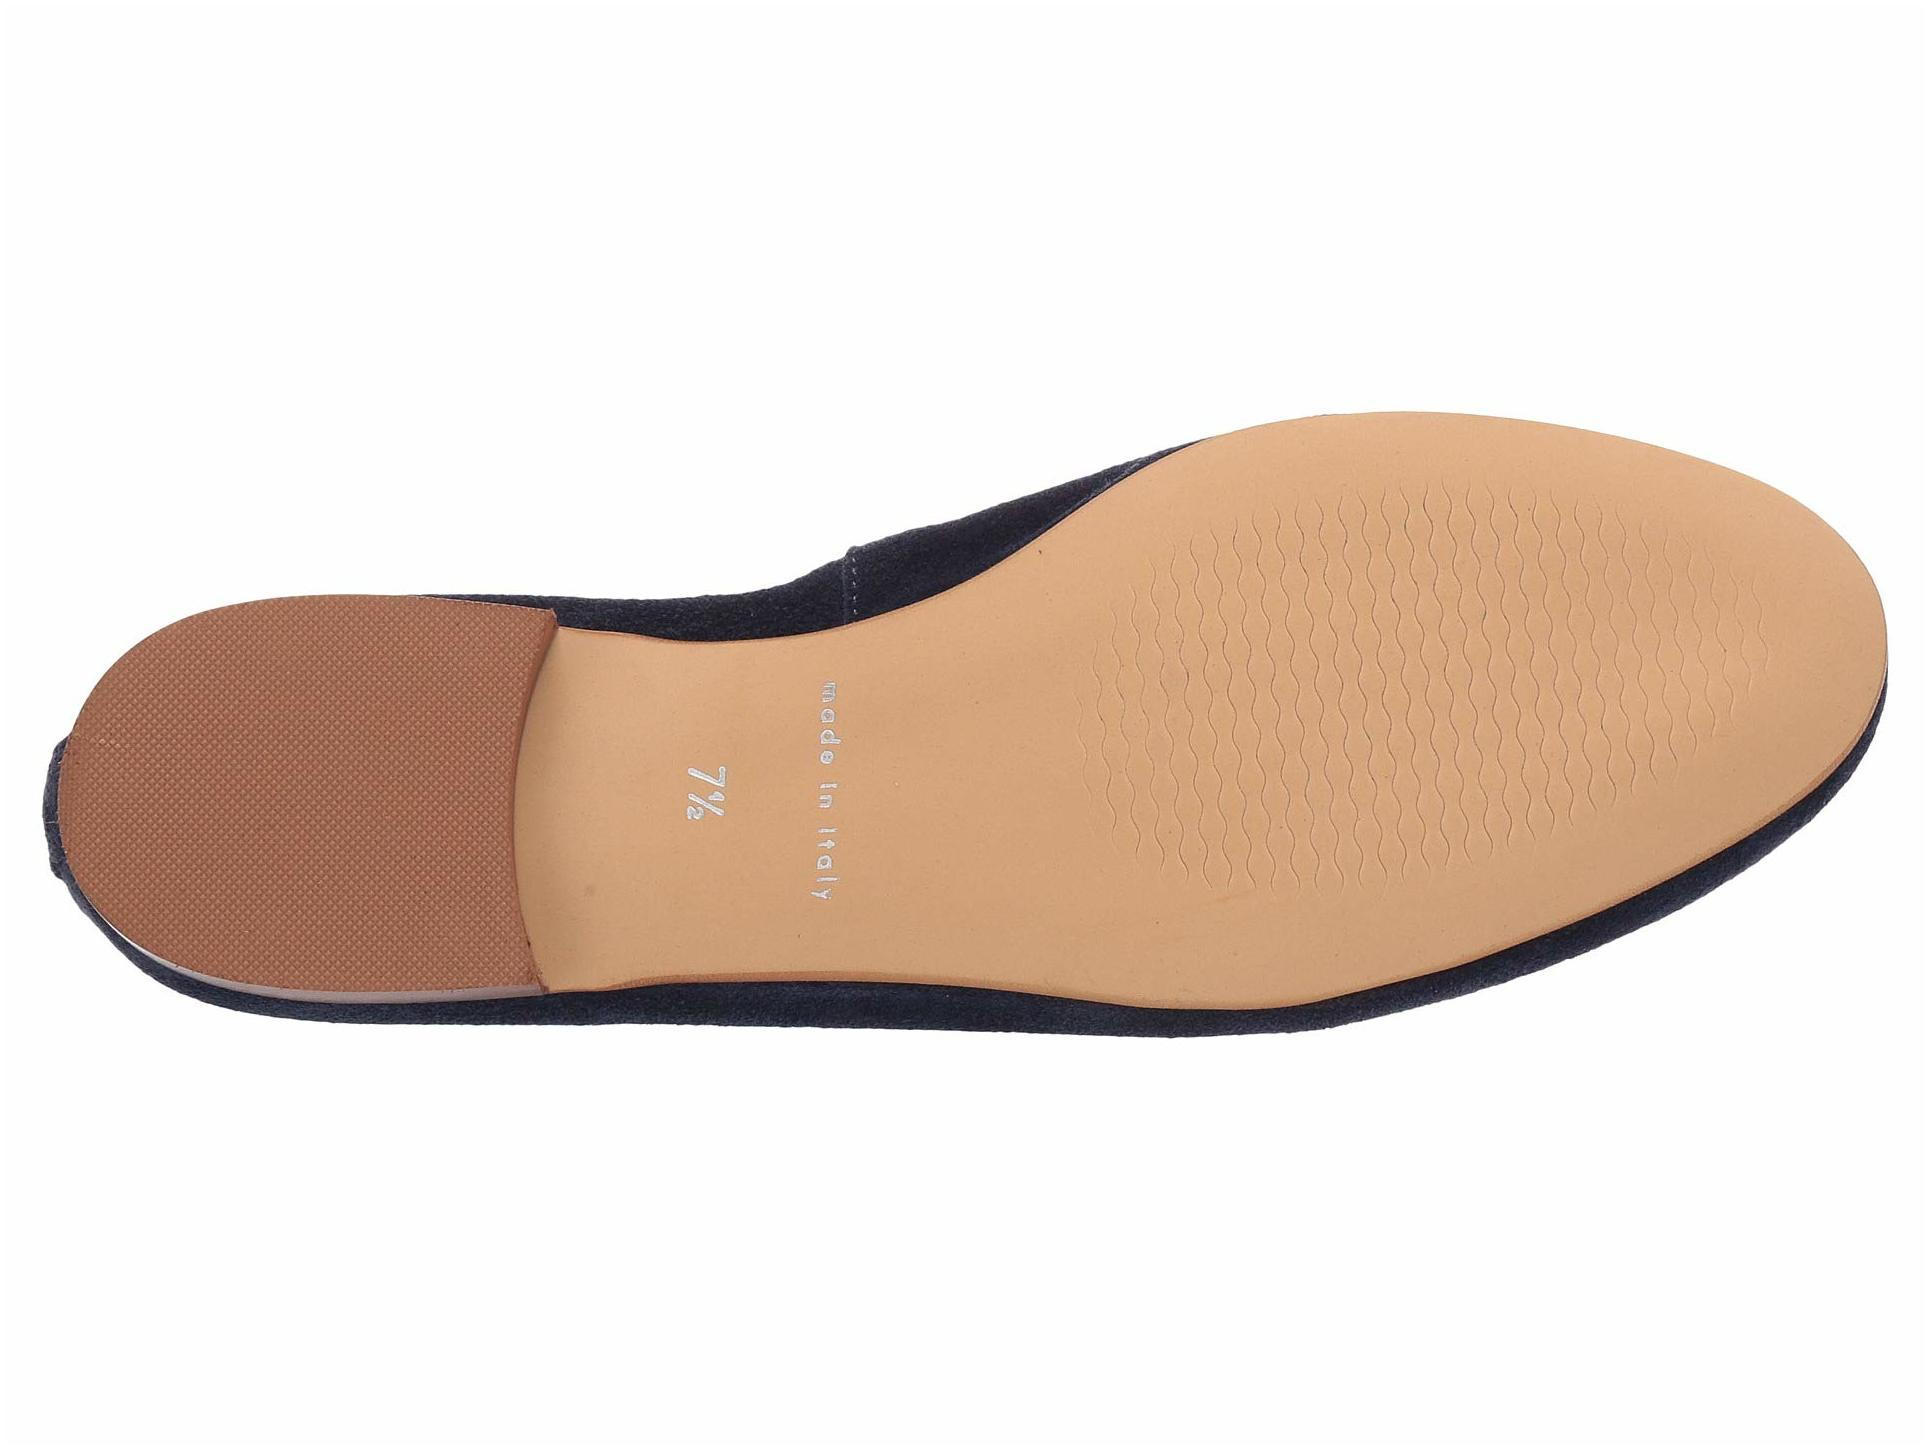chevron: (1278, 547, 1526, 826)
